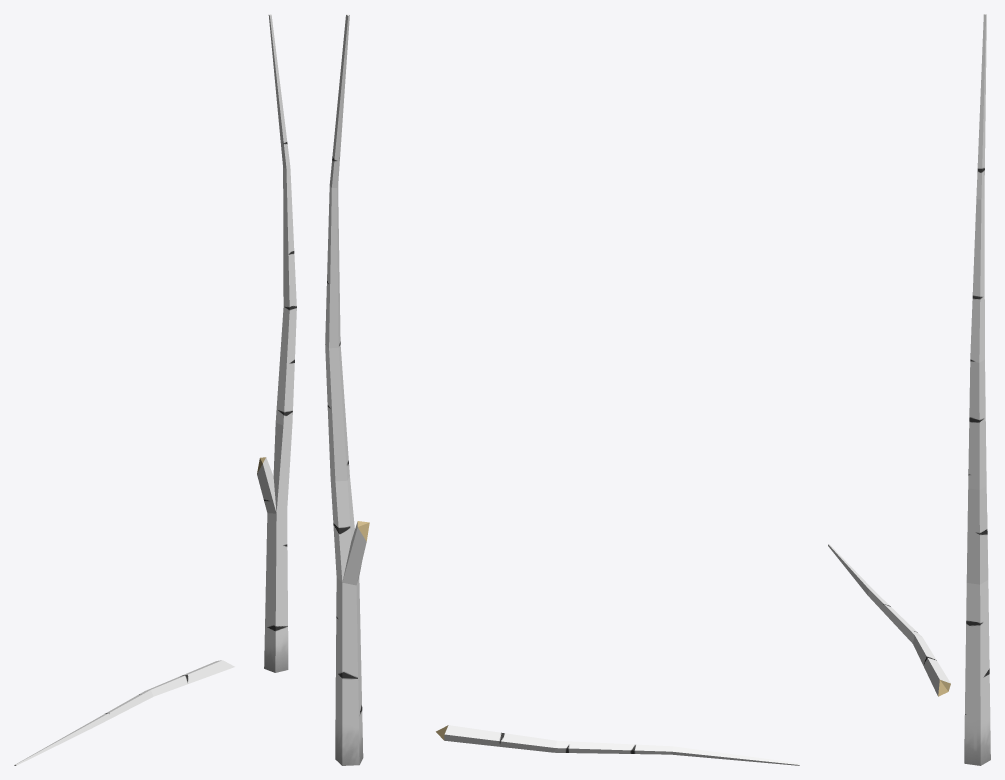
Rendered from Birch_Tree_NoLeaves_crk_m_BT_04.fbx.
The picture shows the model from 3 angles, left to right: view 1: azimuth 30°, elevation 25°; view 2: azimuth 150°, elevation 25°; view 3: azimuth 270°, elevation 25°; orthographic projection. The views are drawn at different scales.
Parts seen in each view (by area): view 1: Birch_Tree_NoLeaves_crk_m_BT_04; view 2: Birch_Tree_NoLeaves_crk_m_BT_04; view 3: Birch_Tree_NoLeaves_crk_m_BT_04.
Boxes of the visible parts, <box> form: Birch_Tree_NoLeaves_crk_m_BT_04: <box>14,14,296,765</box>; Birch_Tree_NoLeaves_crk_m_BT_04: <box>325,14,799,765</box>; Birch_Tree_NoLeaves_crk_m_BT_04: <box>828,14,990,765</box>.
Size of the model in its own units: 387 by 694 by 138.
